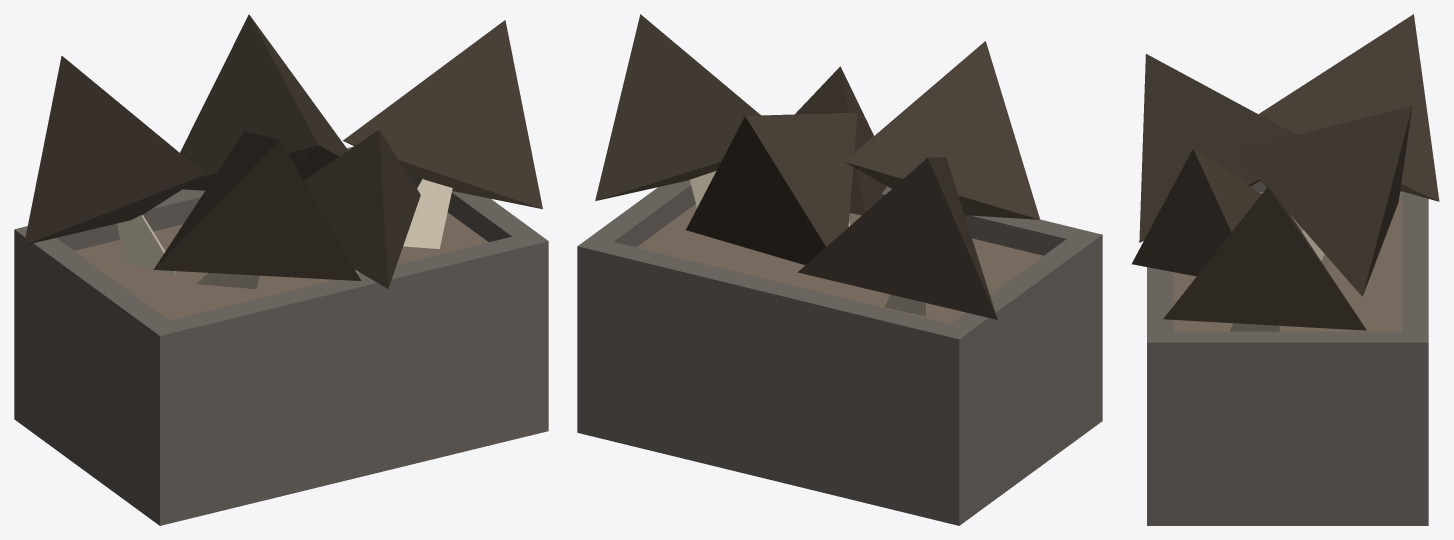
The model's file is chilli.fbx.
The picture shows the model from 3 angles, left to right: view 1: azimuth 30°, elevation 25°; view 2: azimuth 150°, elevation 25°; view 3: azimuth 270°, elevation 25°; orthographic projection. The views are drawn at different scales.
Visible parts, largest first — view 1: On_Cart_Chilli_single, Plant_Chilli4_in, Plant_Chilli1_in, Plant_Chilli3_in, Plant_Chilli2_in, Plant_Chilli5_in; view 2: On_Cart_Chilli_single, Plant_Chilli2_in, Plant_Chilli1_in, Plant_Chilli4_in, Plant_Chilli3_in, Plant_Chilli5_in; view 3: On_Cart_Chilli_single, Plant_Chilli2_in, Plant_Chilli4_in, Plant_Chilli1_in, Plant_Chilli3_in, Plant_Chilli5_in.
Part boxes in pixels (box(x1,y1,x2,y2)): On_Cart_Chilli_single: box(14, 146, 548, 525); Plant_Chilli4_in: box(343, 20, 542, 248); Plant_Chilli1_in: box(24, 56, 205, 275); Plant_Chilli3_in: box(153, 131, 360, 289); Plant_Chilli2_in: box(180, 14, 348, 190); Plant_Chilli5_in: box(304, 130, 420, 288); On_Cart_Chilli_single: box(577, 180, 1102, 525); Plant_Chilli2_in: box(686, 112, 857, 265); Plant_Chilli1_in: box(797, 157, 997, 319); Plant_Chilli4_in: box(595, 14, 760, 207); Plant_Chilli3_in: box(844, 41, 1040, 219); Plant_Chilli5_in: box(795, 66, 886, 226); On_Cart_Chilli_single: box(1147, 181, 1428, 525); Plant_Chilli2_in: box(1235, 105, 1412, 296); Plant_Chilli4_in: box(1163, 187, 1366, 331); Plant_Chilli1_in: box(1258, 14, 1439, 201); Plant_Chilli3_in: box(1139, 54, 1296, 242); Plant_Chilli5_in: box(1131, 148, 1261, 276).
Size of the model in its own units: 365 by 298 by 238.
Materials: 1 (1 with a texture image).
